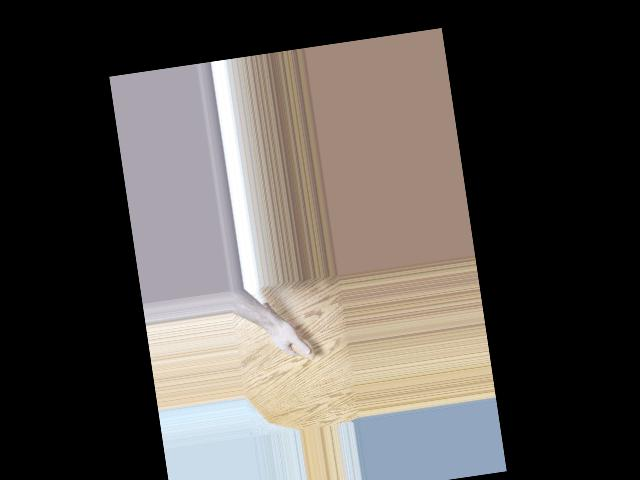sweet_potato: (261, 294, 315, 365)
